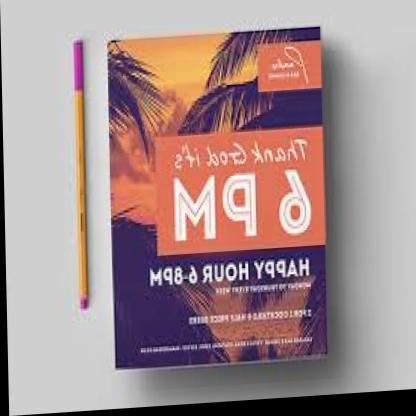Paper: (98, 10, 356, 392)
